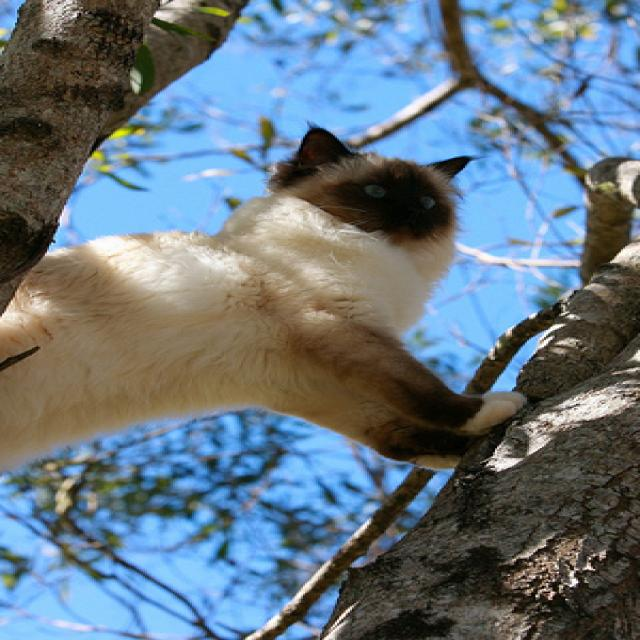Birman: (0, 121, 529, 479)
